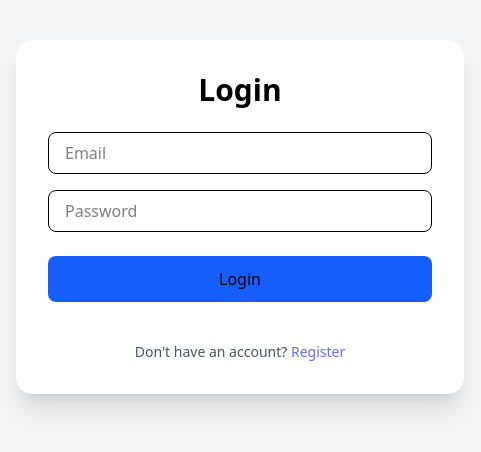
Scenario: AuthForm Component › shows validation errors if fields are empty
This screenshot has width=481, height=452.
Click the button "Login".
click(240, 279)  # box x1=48 y1=256 x2=432 y2=302
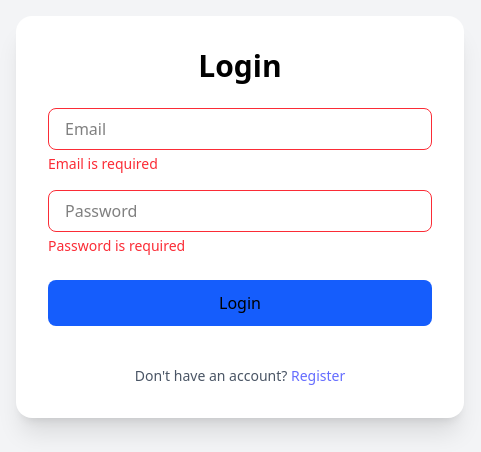
Expected: the text "Email is required" is shown, x1=48 y1=154 x2=158 y2=173
Expected: the text "Password is required" is shown, x1=48 y1=236 x2=185 y2=255
